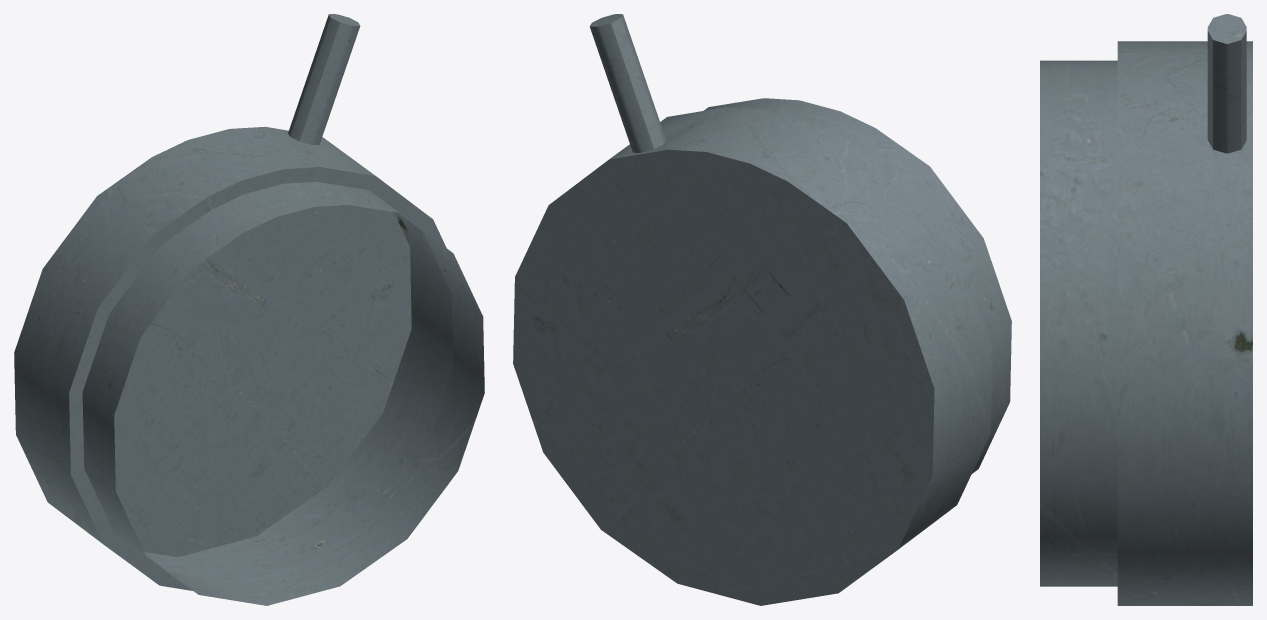
The model's file is Switcher_FlagRotator.FBX.
The picture shows the model from 3 angles, left to right: view 1: azimuth 30°, elevation 25°; view 2: azimuth 150°, elevation 25°; view 3: azimuth 270°, elevation 25°; orthographic projection. The views are drawn at different scales.
Parts seen in each view (by area): view 1: Switcher_FlagRotator; view 2: Switcher_FlagRotator; view 3: Switcher_FlagRotator.
Boxes of the visible parts, <box> form: Switcher_FlagRotator: <box>14,14,484,605</box>; Switcher_FlagRotator: <box>513,14,1011,605</box>; Switcher_FlagRotator: <box>1040,14,1252,605</box>.
Bounding box in the file's own units: 8.48 × 3.2 × 10.44.
